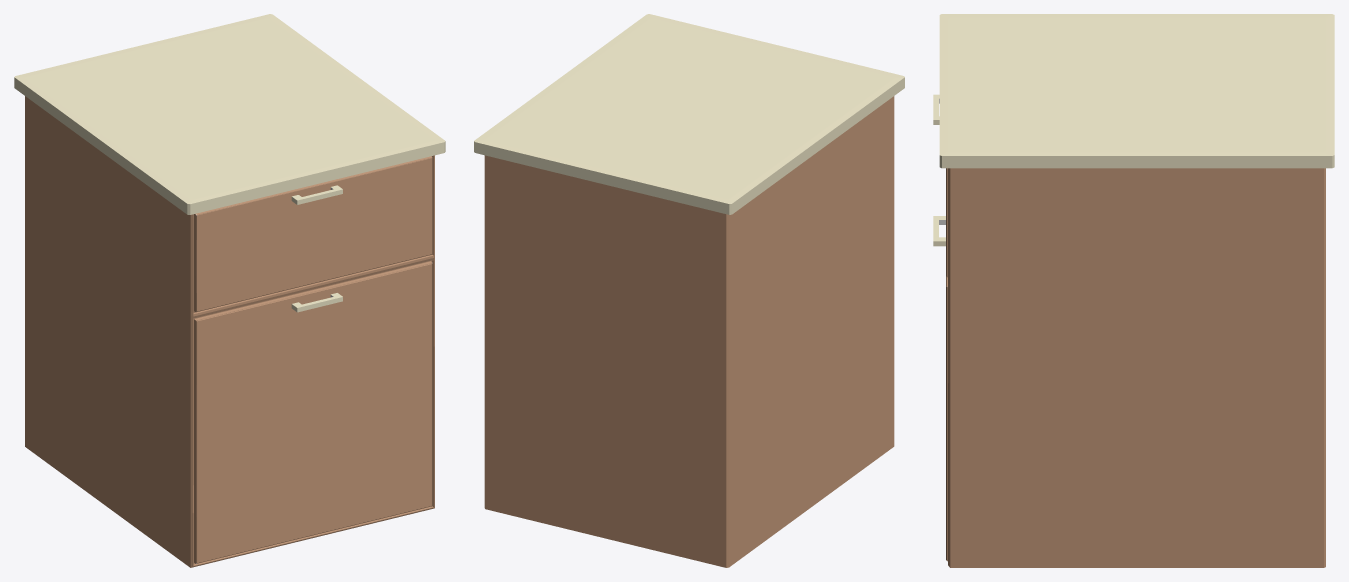
Rendered from DeskDrawers.glb.
The picture shows the model from 3 angles, left to right: view 1: azimuth 30°, elevation 25°; view 2: azimuth 150°, elevation 25°; view 3: azimuth 270°, elevation 25°; orthographic projection. The views are drawn at different scales.
Visible parts, largest first — view 1: Desk Drawers; view 2: Desk Drawers; view 3: Desk Drawers.
Boxes of the visible parts, x1=… form: Desk Drawers: x1=14, y1=14, x2=445, y2=567; Desk Drawers: x1=474, y1=14, x2=904, y2=567; Desk Drawers: x1=933, y1=14, x2=1334, y2=567.
Bounding box in the file's own units: 0.4482 × 0.6114 × 0.5345.
1 material, 1 textured.
